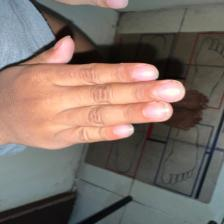DA: (4, 68, 74, 143)
